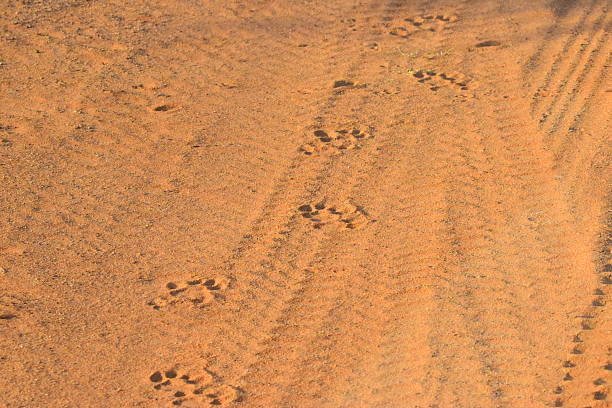animal_foot_print: (149, 366, 240, 407), (148, 277, 229, 309), (300, 125, 372, 154), (298, 200, 367, 228), (388, 14, 457, 37), (411, 70, 475, 91)
